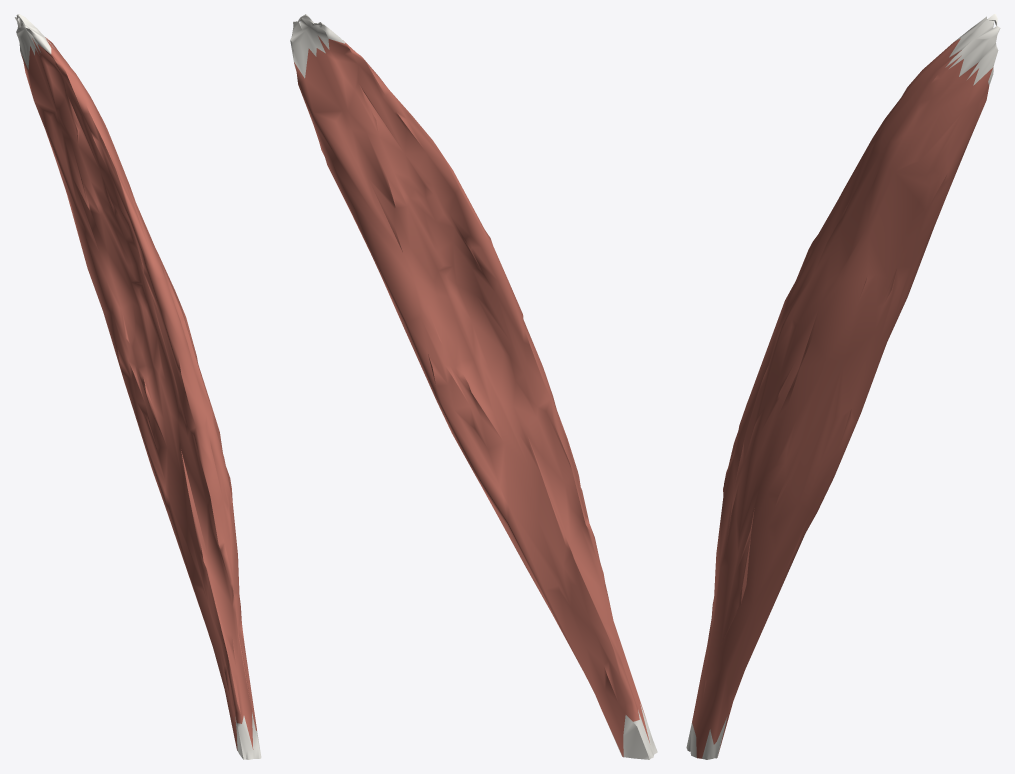
The model's file is long-palmaire.glb.
3 renders of one model, left to right at view 1: azimuth 90°, elevation 25°; view 2: azimuth 150°, elevation 25°; view 3: azimuth 270°, elevation 25°, orthographic. The views are drawn at different scales.
Visible parts, largest first — view 1: long-palmaire; view 2: long-palmaire; view 3: long-palmaire.
Boxes of the visible parts, box(x1,y1,x2,y2) form: long-palmaire: box(14, 14, 261, 759); long-palmaire: box(290, 14, 657, 759); long-palmaire: box(686, 14, 1000, 759).
Size of the model in its own units: 0.0434 by 0.1456 by 0.0493.
